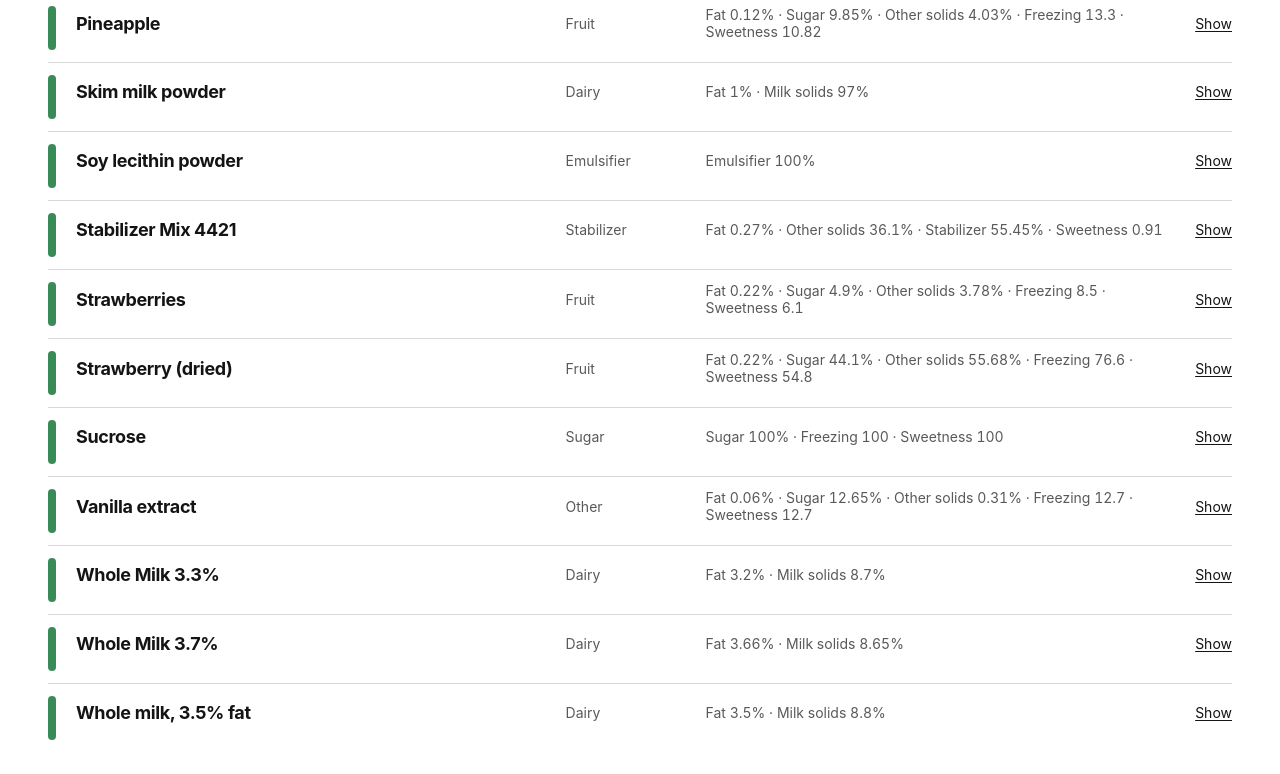
Test: opening an entry › Sucrose: density and packed state share one facts line, and PAC and POD read as plain numbers
The image size is (1280, 774).
(page scrolled)
Click the button with class "ing__head" showing "Sucrose Show" at (111, 436), box [76, 414, 1232, 458]
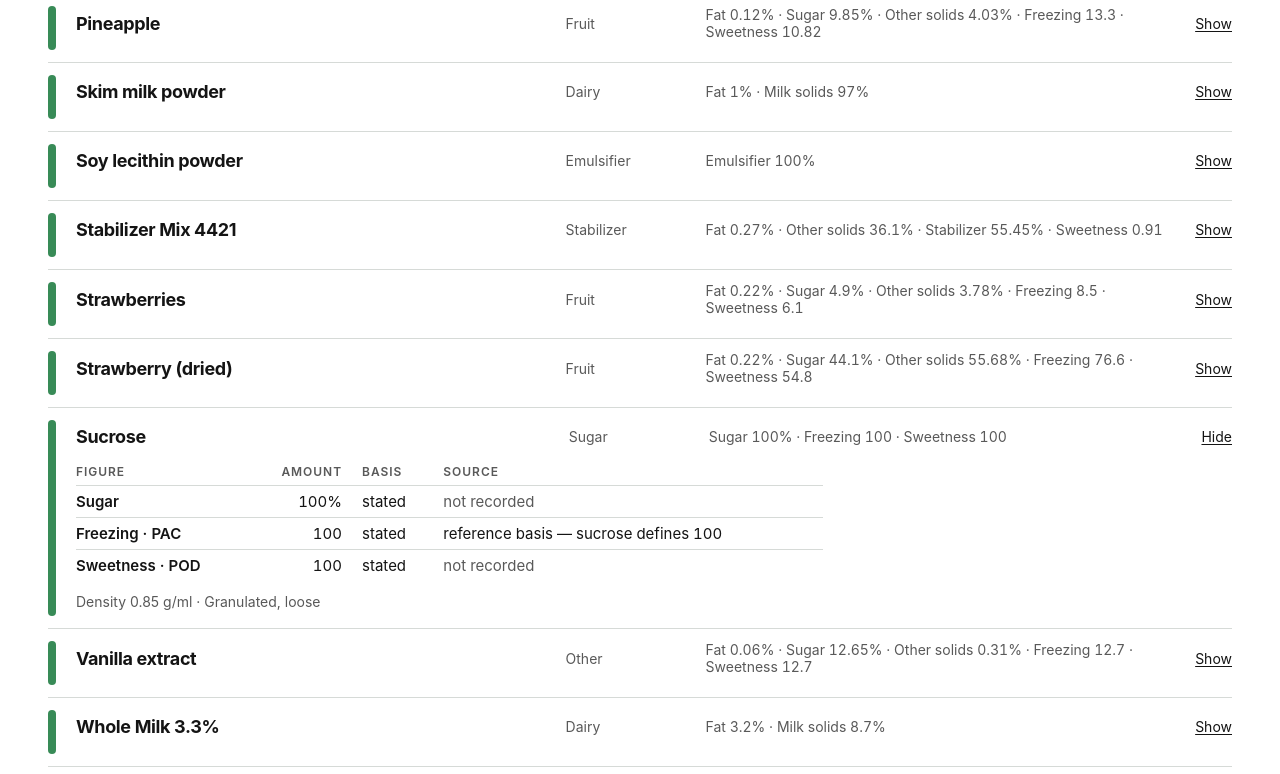
Check: the text with class "ing__facts" reads "Density 0.85 g/ml · Granulated, loose", box [76, 593, 320, 610]
